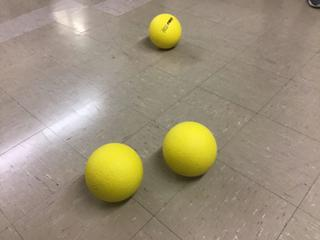power_cell: (74, 141, 146, 207), (161, 120, 224, 184), (144, 13, 191, 50)
